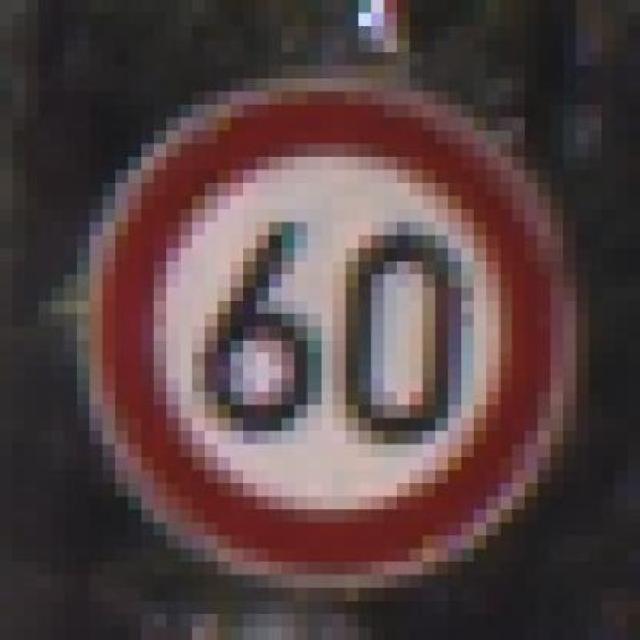forb_speed_over_60: (93, 87, 555, 568)
